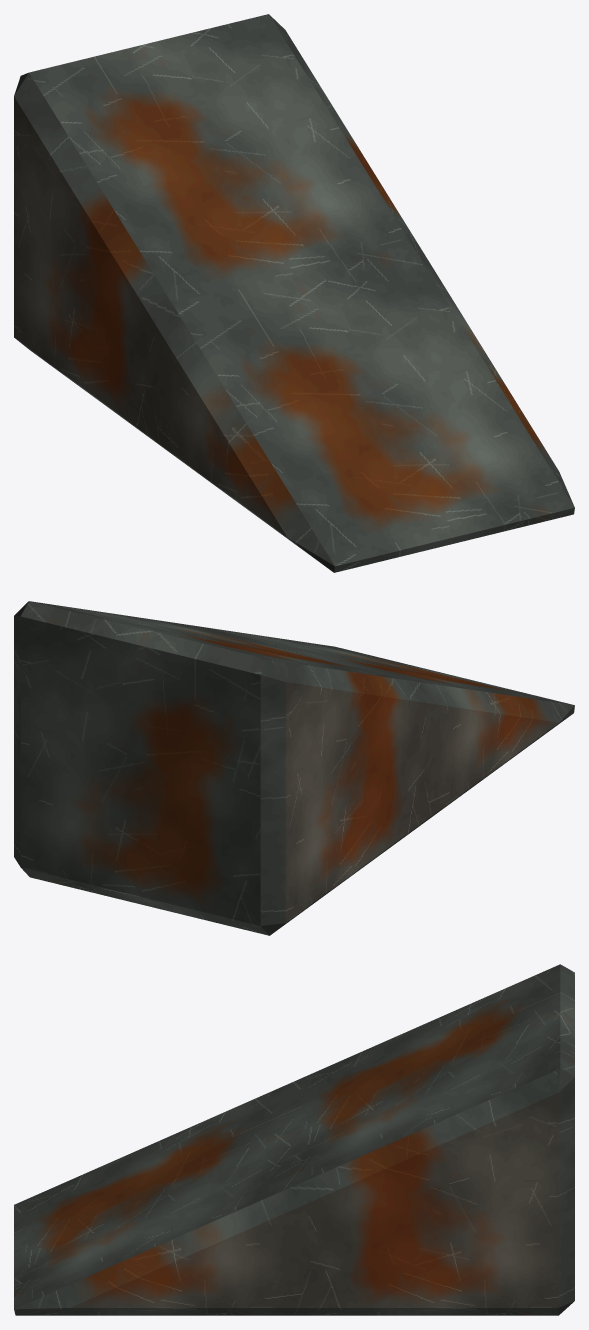
File: R4B_LongWedge_LOD1.glb
The picture shows the model from 3 angles, top to bottom: view 1: azimuth 30°, elevation 25°; view 2: azimuth 150°, elevation 25°; view 3: azimuth 270°, elevation 25°; orthographic projection. The views are drawn at different scales.
Parts seen in each view (by area): view 1: R4B_LongWedge_LOD1; view 2: R4B_LongWedge_LOD1; view 3: R4B_LongWedge_LOD1.
Boxes of the visible parts, bbox=[...] form: R4B_LongWedge_LOD1: bbox=[14, 14, 574, 572]; R4B_LongWedge_LOD1: bbox=[14, 601, 574, 935]; R4B_LongWedge_LOD1: bbox=[14, 964, 574, 1315].
Size of the model in its own units: 0.52 by 0.5067 by 1.04.
Materials: 2 (2 with a texture image).
